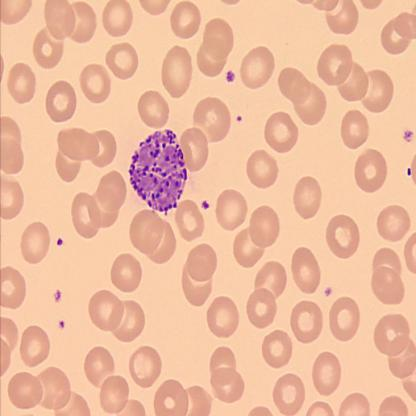Basophil: (128, 126, 190, 218)
